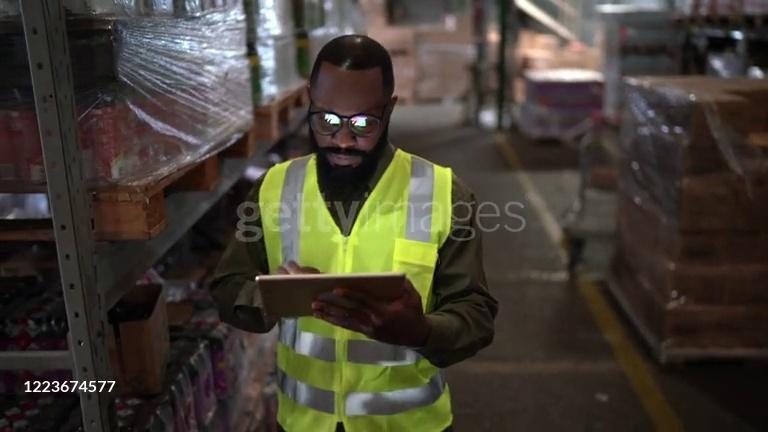person: (207, 32, 500, 432)
